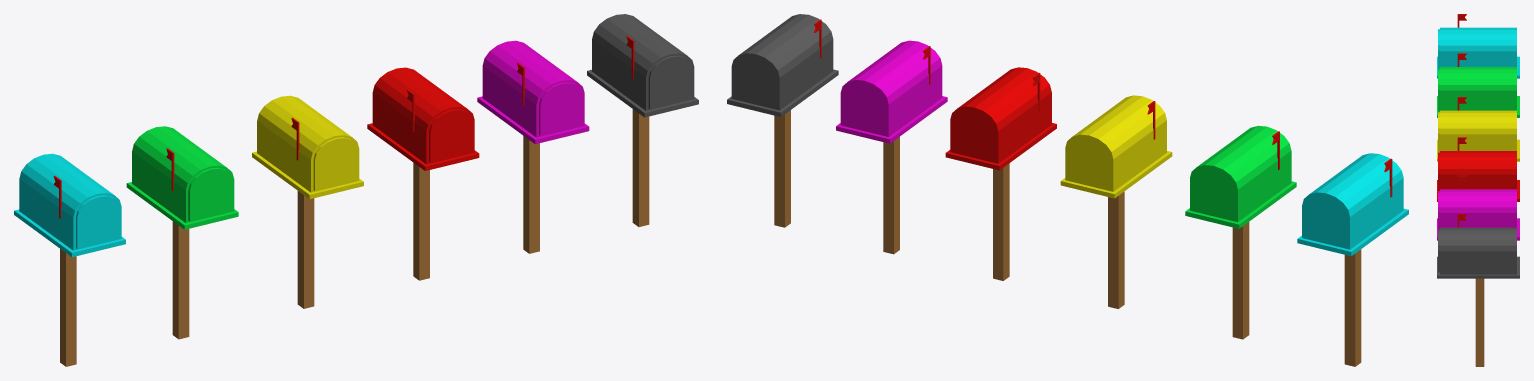
Rendered from Mailbox Lawn.fbx.
3 renders of one model, left to right at view 1: azimuth 30°, elevation 25°; view 2: azimuth 150°, elevation 25°; view 3: azimuth 270°, elevation 25°, orthographic. The views are drawn at different scales.
Parts seen in each view (by area): view 1: Cube.003, Cube.009, Cube.007, Cube.011, Cube.001, Cube.005, Cube.002, Cube.004, Cube.010, Cube.008, Cube, Cube.006; view 2: Cube.009, Cube.011, Cube.001, Cube.005, Cube.007, Cube.003, Cube.002, Cube, Cube.006, Cube.004, Cube.008, Cube.010; view 3: Cube.011, Cube.003, Cube.005, Cube.001, Cube.009, Cube.007, Cube.010.
Boxes of the visible parts, box(x1,y1,x2,y2) form: Cube.003: box(126, 126, 238, 229); Cube.009: box(477, 40, 589, 144); Cube.007: box(367, 67, 479, 170); Cube.011: box(587, 14, 698, 117); Cube.001: box(14, 153, 125, 257); Cube.005: box(252, 95, 363, 199); Cube.002: box(172, 221, 189, 339); Cube.004: box(297, 191, 314, 308); Cube.010: box(632, 109, 649, 226); Cube.008: box(523, 136, 539, 253); Cube: box(60, 249, 76, 366); Cube.006: box(413, 163, 429, 280); Cube.009: box(836, 40, 947, 143); Cube.011: box(727, 14, 838, 116); Cube.001: box(1297, 153, 1408, 256); Cube.005: box(1060, 95, 1172, 198); Cube.007: box(945, 67, 1056, 170); Cube.003: box(1185, 125, 1296, 228); Cube.002: box(1232, 222, 1249, 339); Cube: box(1344, 249, 1361, 366); Cube.006: box(993, 163, 1009, 280); Cube.004: box(1108, 191, 1124, 308); Cube.008: box(883, 137, 899, 254); Cube.010: box(774, 110, 790, 227); Cube.011: box(1437, 214, 1519, 278); Cube.003: box(1437, 53, 1519, 117); Cube.005: box(1437, 97, 1519, 161); Cube.001: box(1437, 14, 1519, 78); Cube.009: box(1437, 175, 1519, 240); Cube.007: box(1437, 137, 1519, 201); Cube.010: box(1475, 278, 1484, 366).
Size of the model in its own units: 2160 by 658 by 345.
